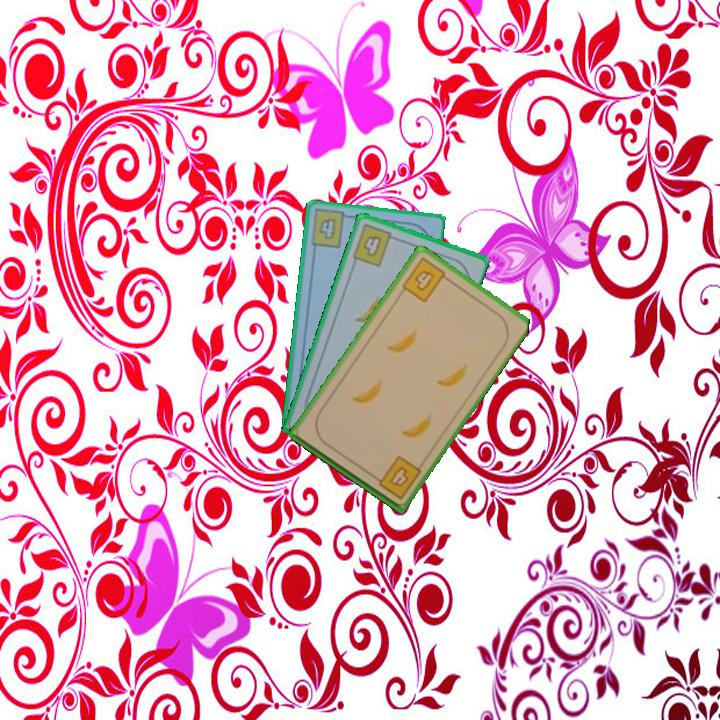4b: (398, 254, 453, 305), (369, 452, 424, 502), (349, 220, 401, 270), (307, 207, 354, 250)
